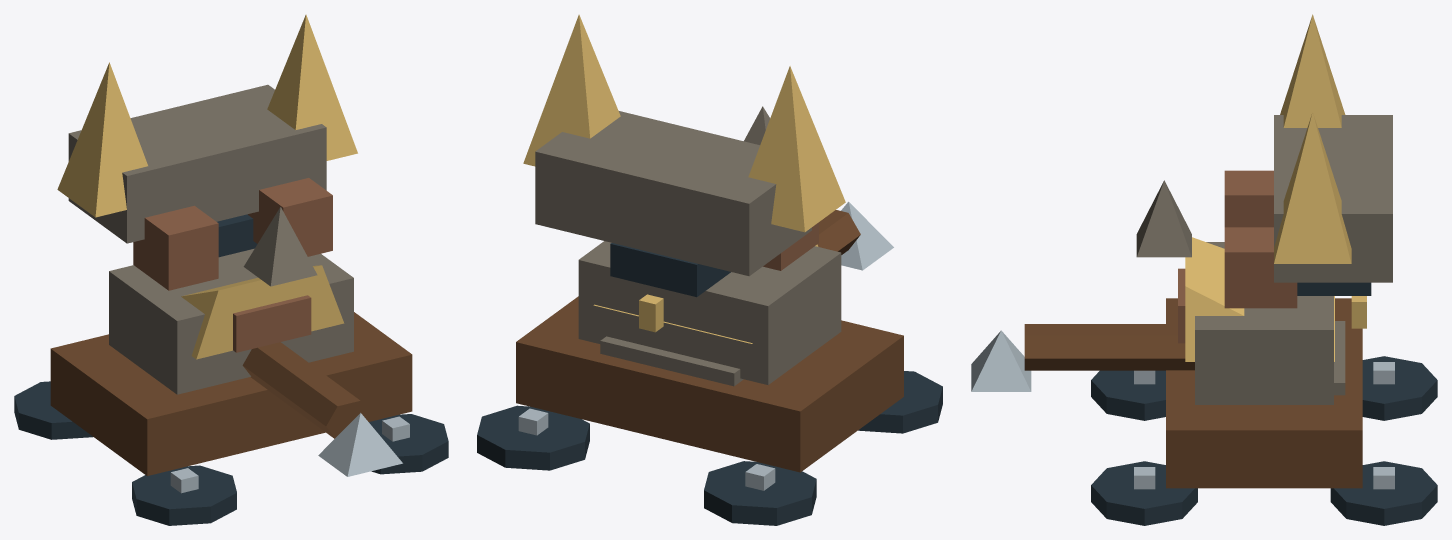
File: legendary-land.obj
3 views of the same model, side by side, from view 1: azimuth 30°, elevation 25°; view 2: azimuth 150°, elevation 25°; view 3: azimuth 270°, elevation 25° (orthographic). The views are drawn at different scales.
Visible parts, largest first — view 1: siege; view 2: siege; view 3: siege.
Part boxes in pixels (<box>): siege: <box>14,14,448,525</box>; siege: <box>477,14,942,525</box>; siege: <box>971,14,1437,525</box>.
Bounding box in the file's own units: 2.1 × 2.47 × 2.7.
